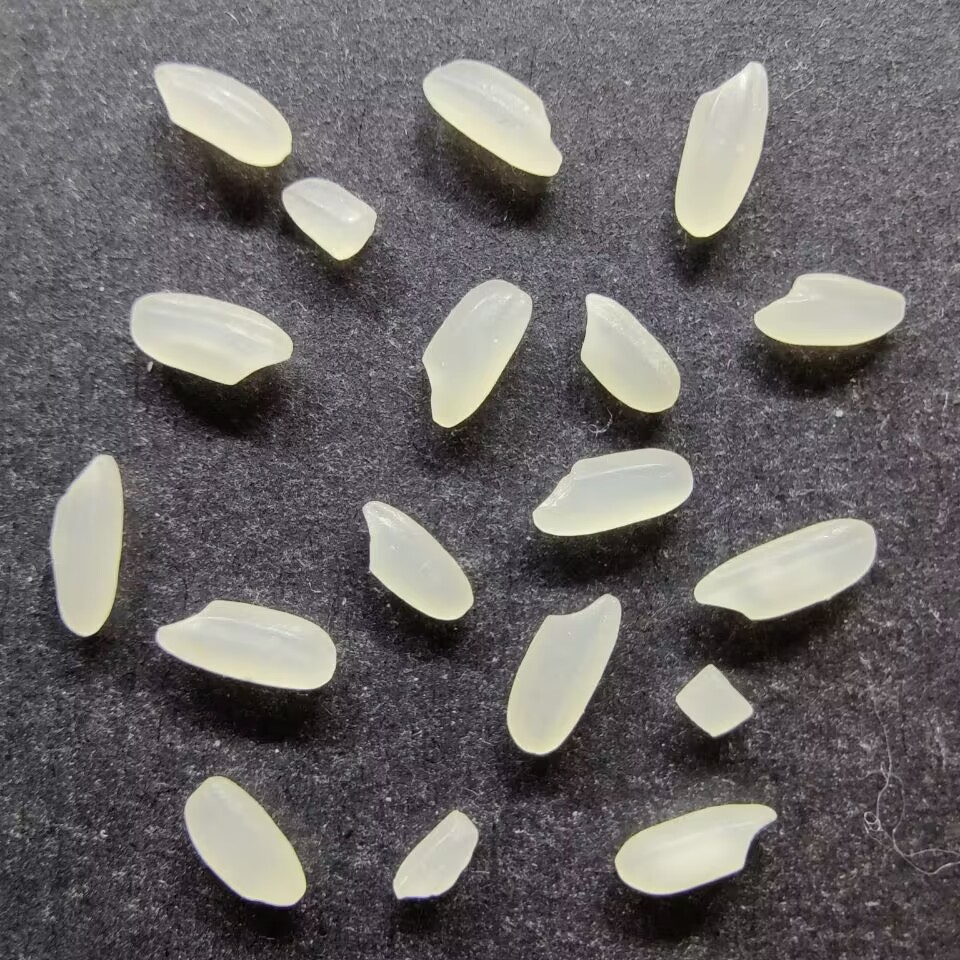broken: (388, 807, 483, 901), (279, 176, 378, 262), (675, 661, 755, 739)
rice: (504, 591, 623, 756), (691, 518, 877, 621), (672, 58, 770, 238), (153, 598, 338, 692), (419, 277, 533, 429), (420, 58, 564, 177), (181, 774, 306, 907), (128, 290, 294, 387), (612, 801, 779, 895), (149, 61, 295, 168), (530, 447, 693, 537), (48, 453, 125, 638), (359, 499, 473, 622), (577, 292, 682, 413), (751, 271, 907, 348)
